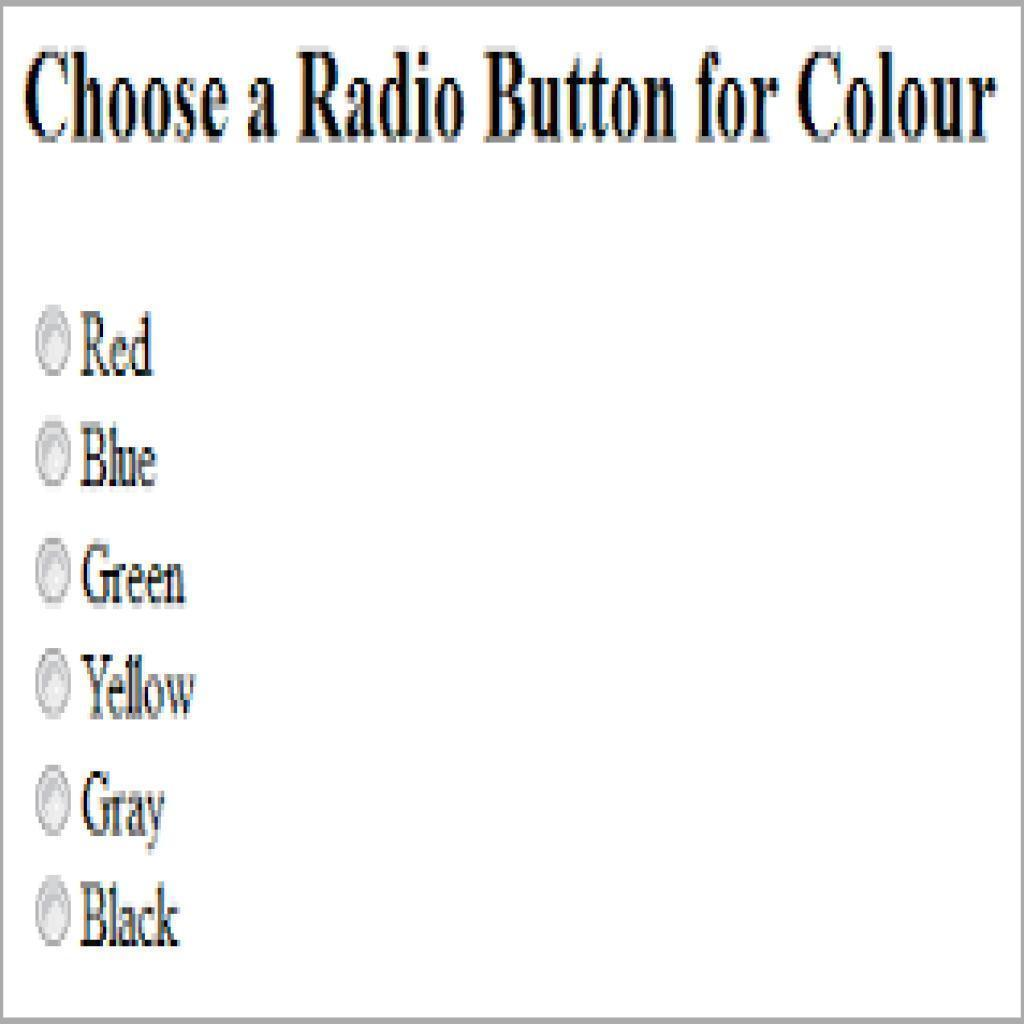label: (76, 649, 196, 720), (79, 879, 183, 951), (79, 769, 165, 855), (81, 539, 187, 605), (76, 306, 157, 379), (79, 417, 160, 486)
radio: (33, 763, 74, 839), (34, 303, 73, 378), (34, 871, 71, 947), (34, 647, 73, 719), (33, 536, 73, 606), (33, 419, 72, 487)
